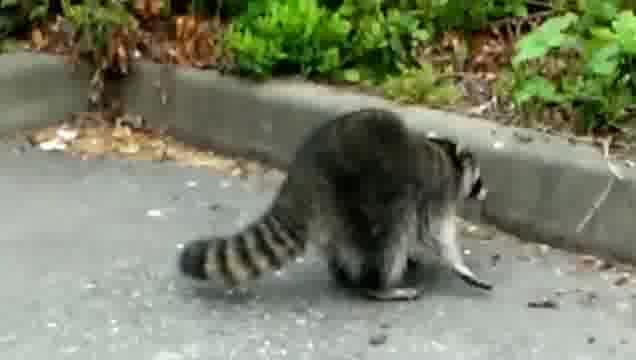raccoon: (180, 104, 501, 310)
